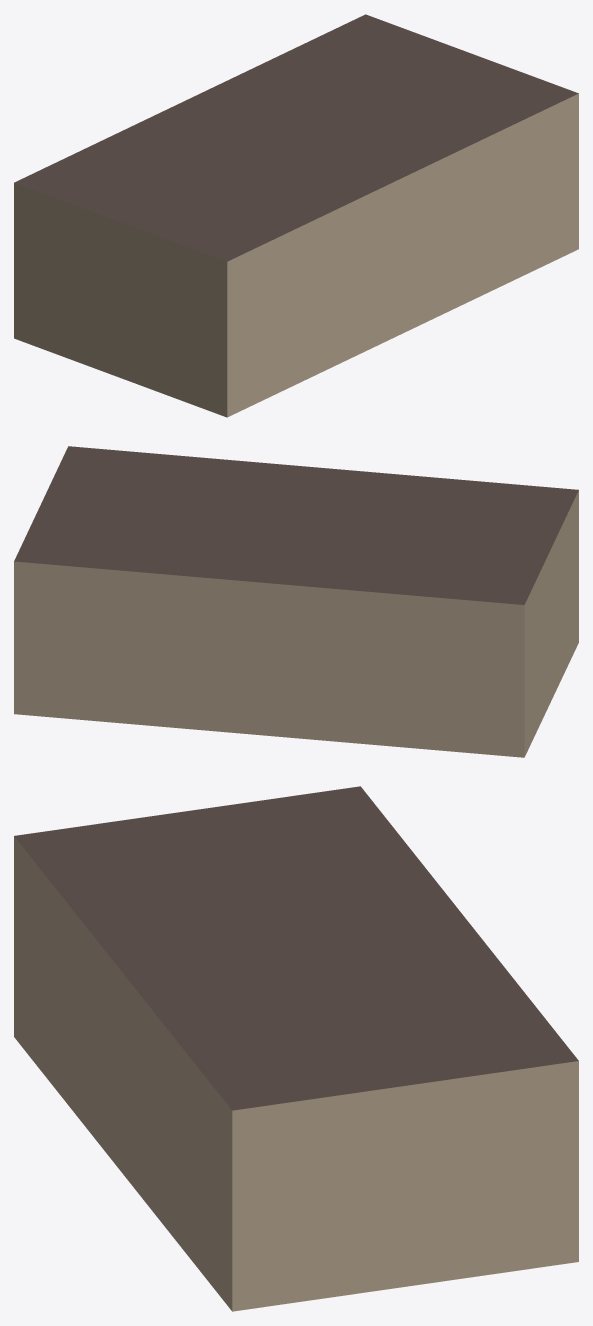
The picture shows the model from 3 angles, top to bottom: view 1: azimuth 30°, elevation 25°; view 2: azimuth 150°, elevation 25°; view 3: azimuth 270°, elevation 25°; orthographic projection. The views are drawn at different scales.
Visible parts, largest first — view 1: HP-w693448183; view 2: HP-w693448183; view 3: HP-w693448183.
Boxes of the visible parts, x1,y1,x2,y2 form: HP-w693448183: (14, 14, 578, 417); HP-w693448183: (14, 446, 578, 757); HP-w693448183: (14, 786, 578, 1311).
Size of the model in its own units: 31.15 by 9 by 22.93.
